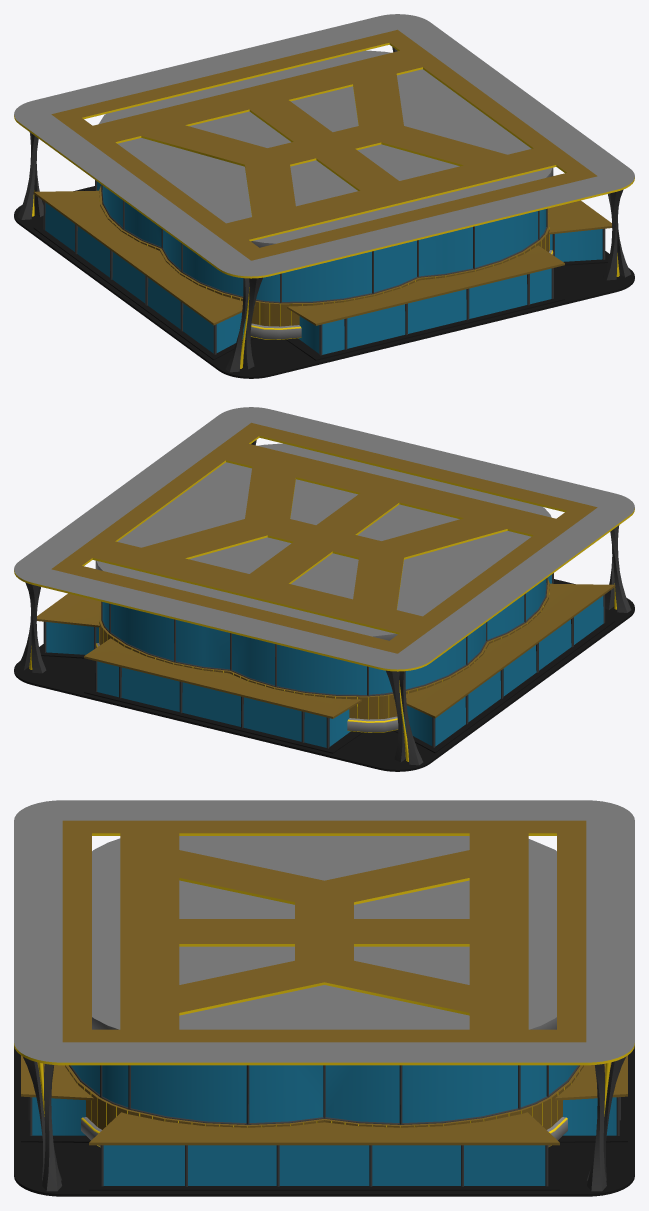
The model's file is SM_MK13_Middle_002.fbx.
3 renders of one model, top to bottom at view 1: azimuth 30°, elevation 25°; view 2: azimuth 150°, elevation 25°; view 3: azimuth 270°, elevation 25°, orthographic. The views are drawn at different scales.
Parts seen in each view (by area): view 1: SM_MK13_Middle_002; view 2: SM_MK13_Middle_002; view 3: SM_MK13_Middle_002.
Boxes of the visible parts, x1,y1,x2,y2 form: SM_MK13_Middle_002: (14, 14, 634, 378); SM_MK13_Middle_002: (14, 407, 634, 771); SM_MK13_Middle_002: (14, 800, 634, 1196).
Size of the model in its own units: 2100 by 500 by 2100.
